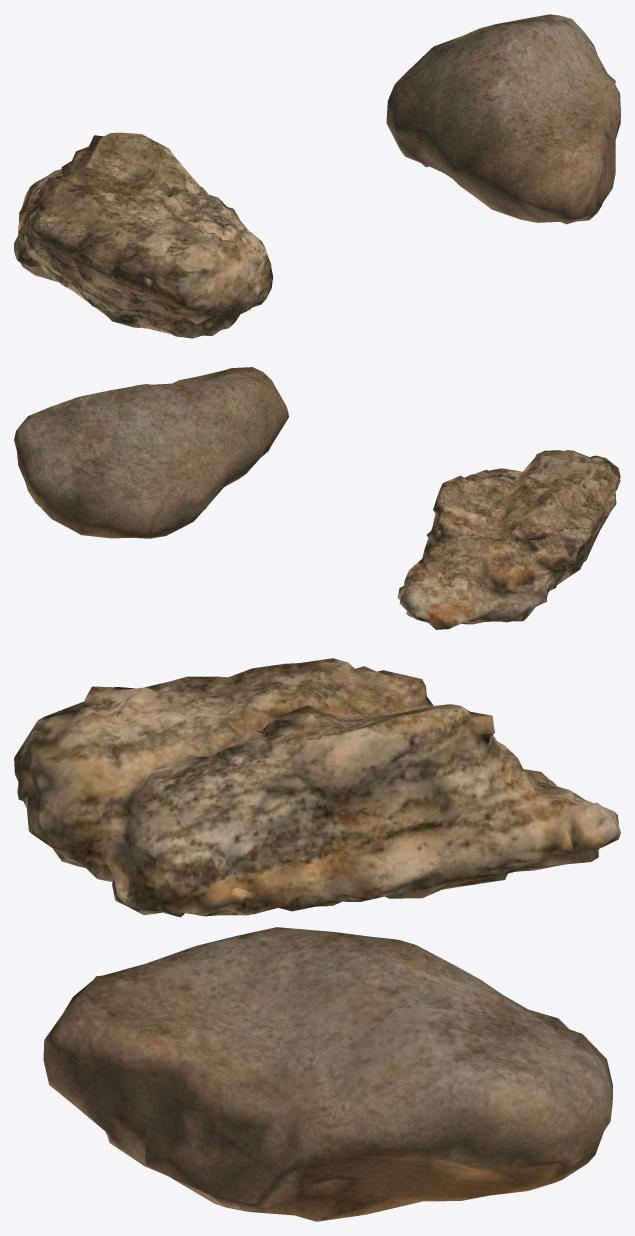
The model's file is pedrusco.glb.
The picture shows the model from 3 angles, top to bottom: view 1: azimuth 30°, elevation 25°; view 2: azimuth 150°, elevation 25°; view 3: azimuth 270°, elevation 25°; orthographic projection. The views are drawn at different scales.
Parts seen in each view (by area): view 1: namaqualand_boulders_01_a_LOD0; view 2: namaqualand_boulders_01_a_LOD0; view 3: namaqualand_boulders_01_a_LOD0.
Boxes of the visible parts, x1,y1,x2,y2 form: namaqualand_boulders_01_a_LOD0: (14,14,620,338); namaqualand_boulders_01_a_LOD0: (14,367,620,629); namaqualand_boulders_01_a_LOD0: (14,658,620,1221).
Size of the model in its own units: 1.06 by 0.2497 by 0.5854.
Materials: 1 (1 with a texture image).
